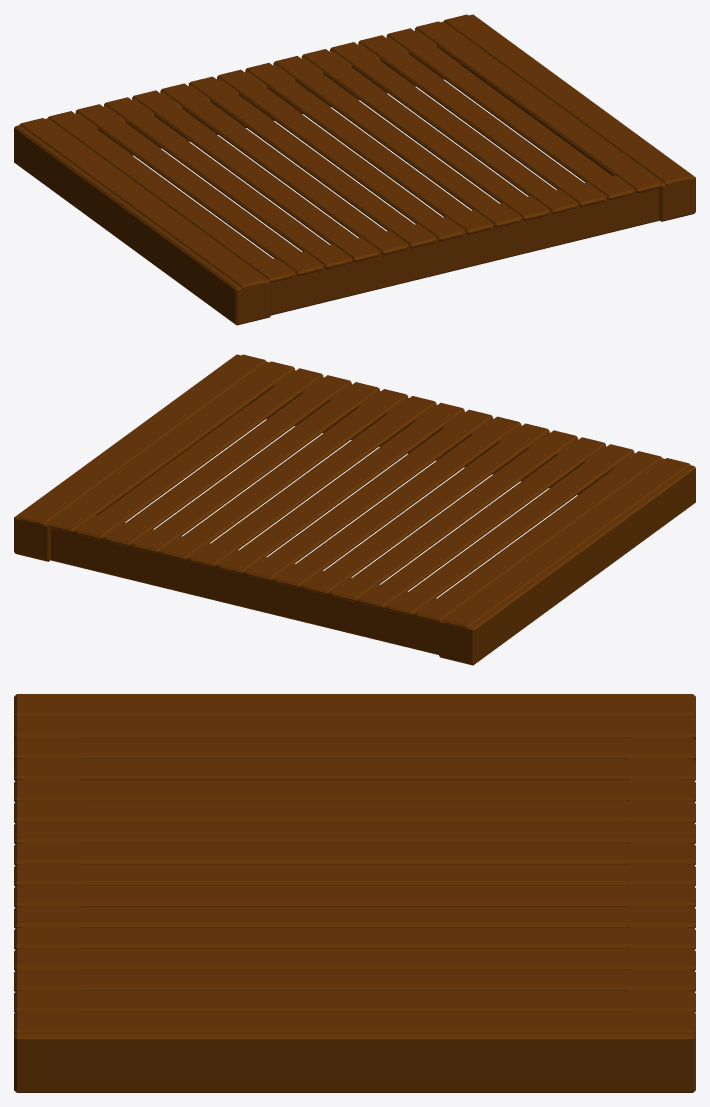
File: Floor.fbx
The picture shows the model from 3 angles, top to bottom: view 1: azimuth 30°, elevation 25°; view 2: azimuth 150°, elevation 25°; view 3: azimuth 270°, elevation 25°; orthographic projection. The views are drawn at different scales.
Parts seen in each view (by area): view 1: Plank.002; view 2: Plank.002; view 3: Plank.002.
Boxes of the visible parts, x1=… form: Plank.002: x1=14, y1=14, x2=695, y2=325; Plank.002: x1=14, y1=354, x2=695, y2=665; Plank.002: x1=14, y1=694, x2=695, y2=1092.
Bounding box in the file's own units: 247 × 20.05 × 207.
